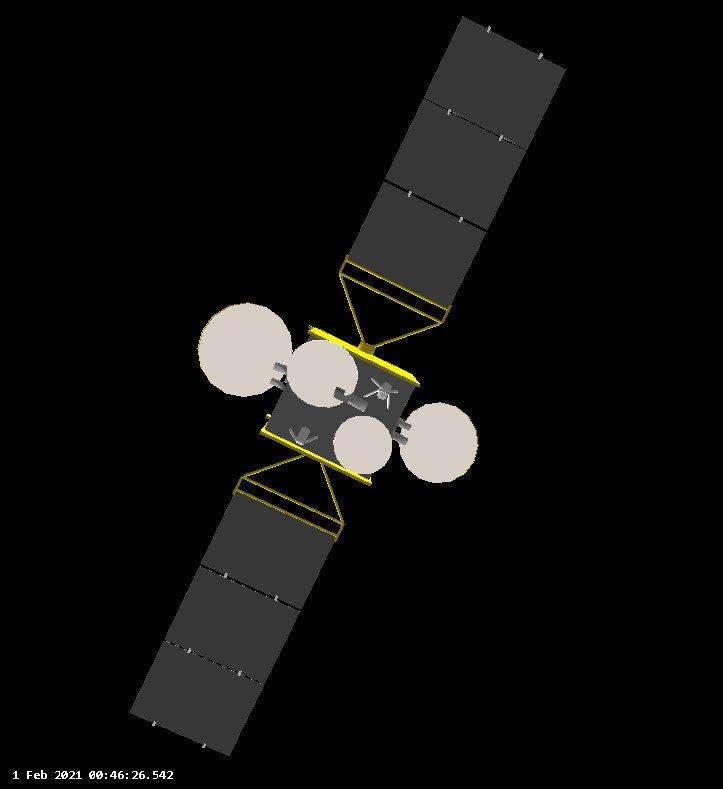antenna: (197, 297, 292, 400), (400, 400, 482, 487), (285, 339, 360, 412), (333, 412, 395, 477)
body: (258, 318, 423, 491)
solar: (333, 8, 570, 344), (122, 456, 339, 755)
